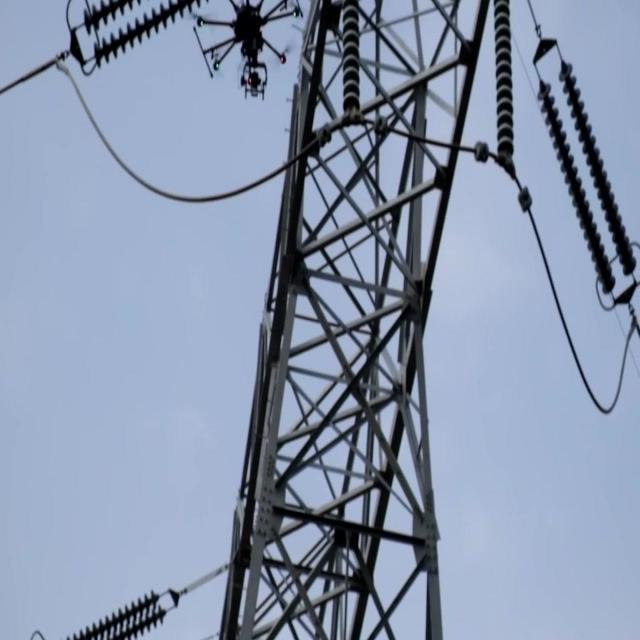UAV: (193, 0, 303, 101)
